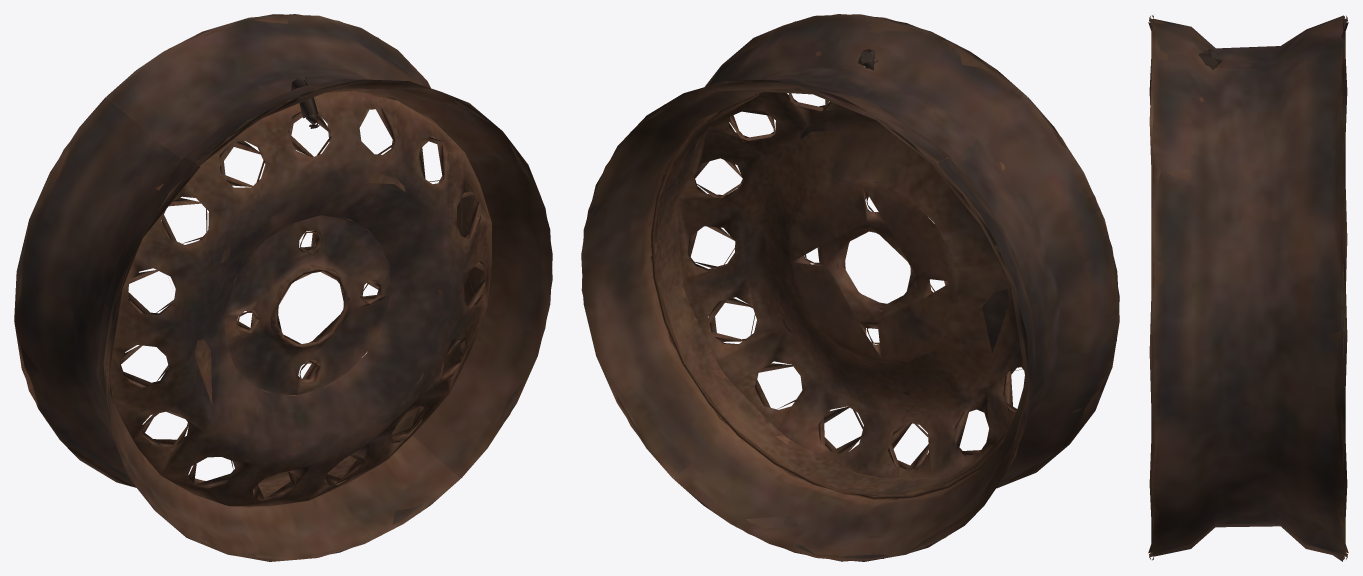
The model's file is rusted_wheel_rim_02.glb.
3 views of the same model, side by side, from view 1: azimuth 30°, elevation 25°; view 2: azimuth 150°, elevation 25°; view 3: azimuth 270°, elevation 25° (orthographic). The views are drawn at different scales.
Visible parts, largest first — view 1: rusted_wheel_rim_02; view 2: rusted_wheel_rim_02; view 3: rusted_wheel_rim_02.
Boxes of the visible parts, x1=… form: rusted_wheel_rim_02: x1=14, y1=14, x2=552, y2=561; rusted_wheel_rim_02: x1=581, y1=14, x2=1119, y2=561; rusted_wheel_rim_02: x1=1148, y1=15, x2=1348, y2=561.
Size of the model in its own units: 0.3371 by 0.3371 by 0.1234.
1 material, 1 textured.
